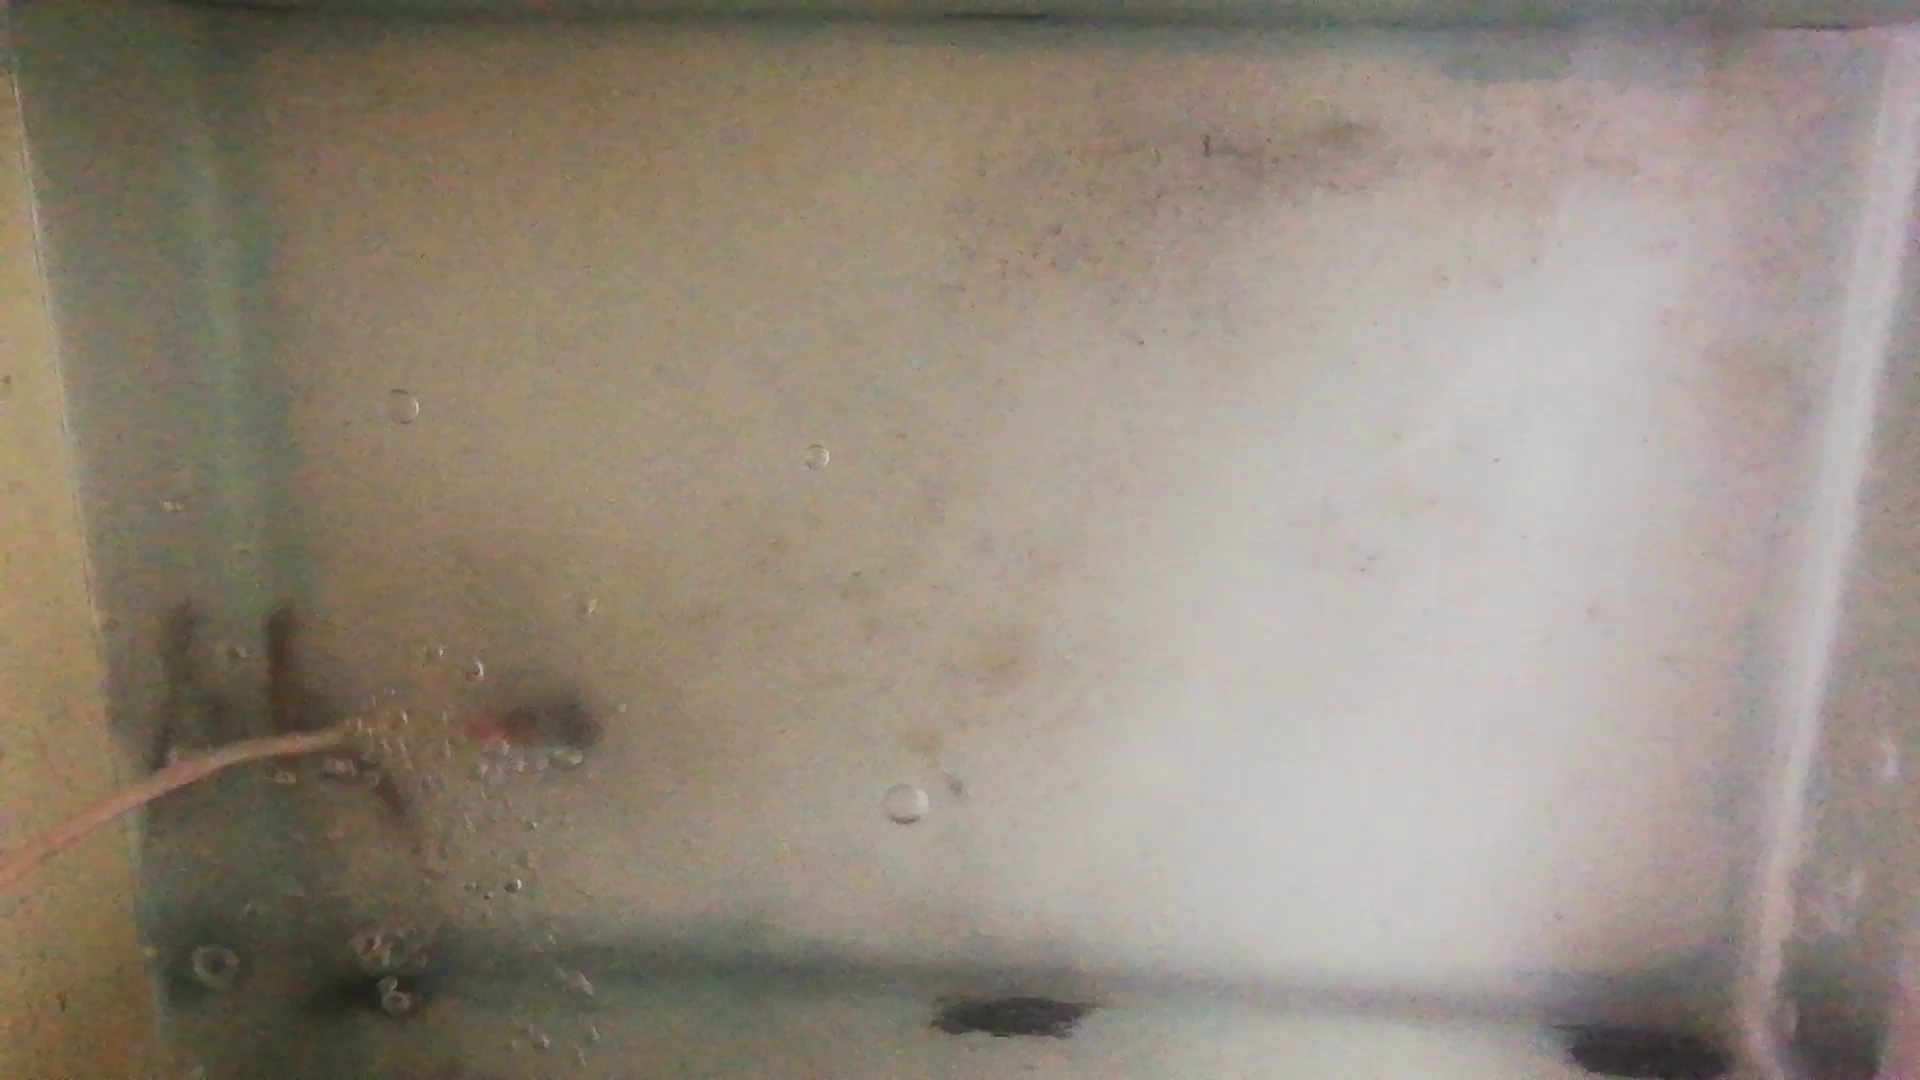fish: (298, 688, 402, 812), (262, 595, 302, 762)
